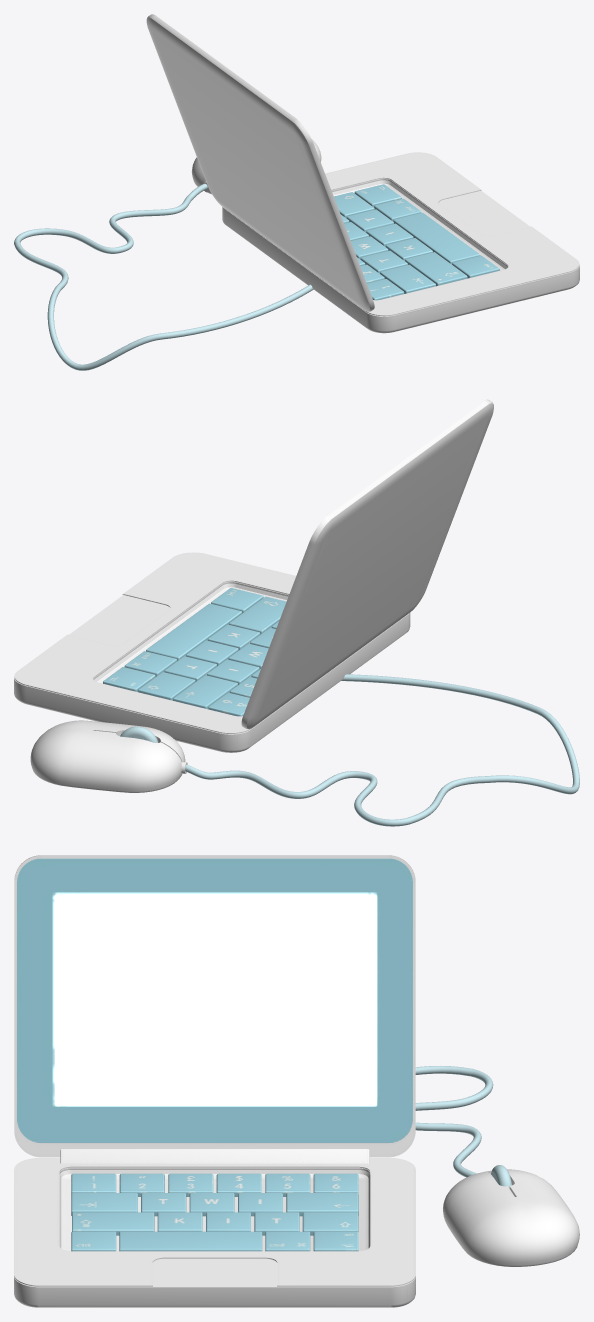
The picture shows the model from 3 angles, top to bottom: view 1: azimuth 30°, elevation 25°; view 2: azimuth 150°, elevation 25°; view 3: azimuth 270°, elevation 25°; orthographic projection. The views are drawn at different scales.
Visible parts, largest first — view 1: MacBook_1, Muis_1; view 2: MacBook_1, Muis_1; view 3: MacBook_1, Muis_1.
Part boxes in pixels (box(x1,y1,x2,y2)): MacBook_1: box(146, 14, 579, 333); Muis_1: box(14, 139, 321, 370); MacBook_1: box(14, 399, 493, 752); Muis_1: box(30, 674, 579, 826); MacBook_1: box(14, 855, 415, 1307); Muis_1: box(415, 1066, 579, 1266).
Size of the model in its own units: 580 by 334 by 521.
3 materials, 1 textured.
